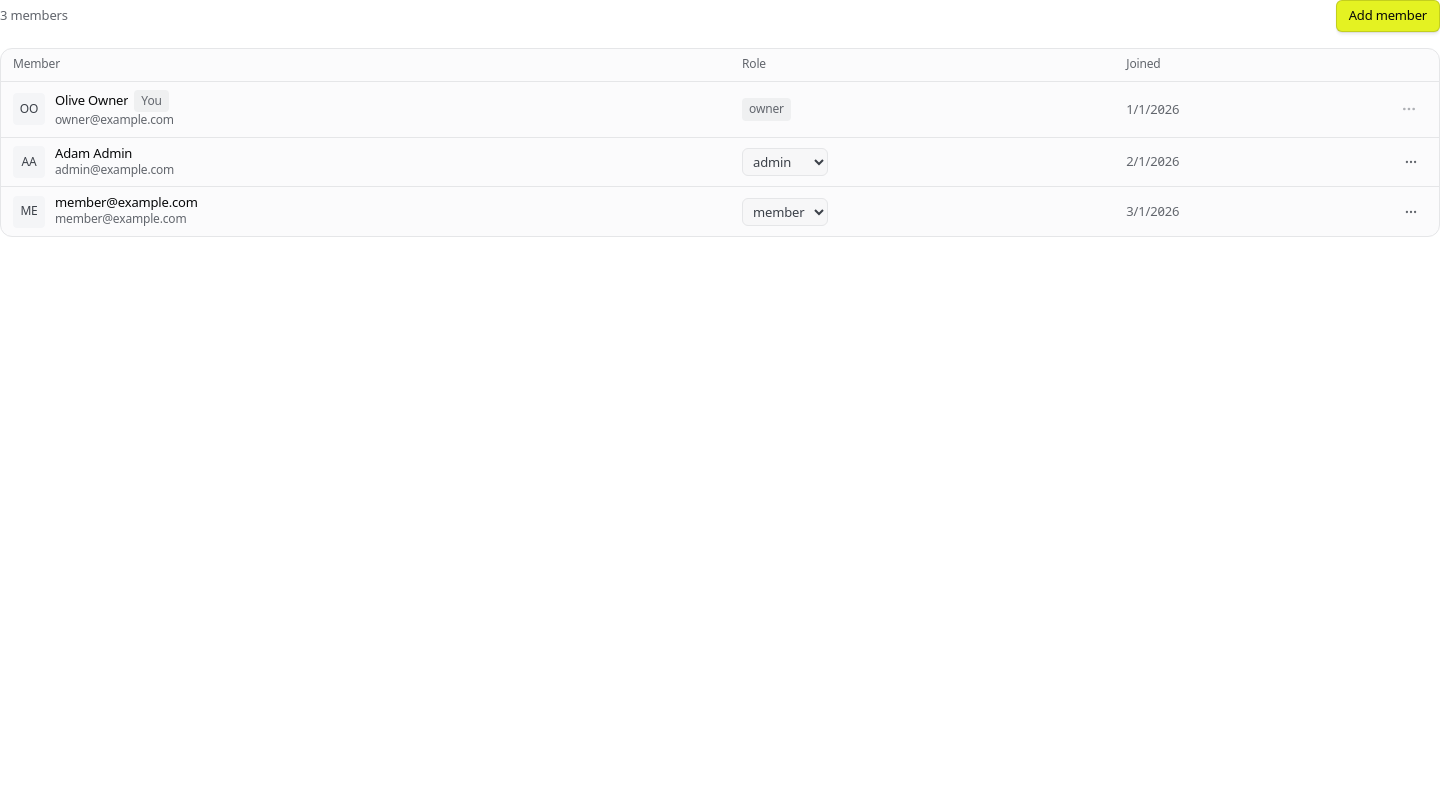
Test: MembersPanel › never offers the owner role to an admin in the add dialog
Check: the text "owner@example.com" is shown, box [55,112,174,129]
Click the button "Add member": x=1388, y=16 [1336,0,1439,32]
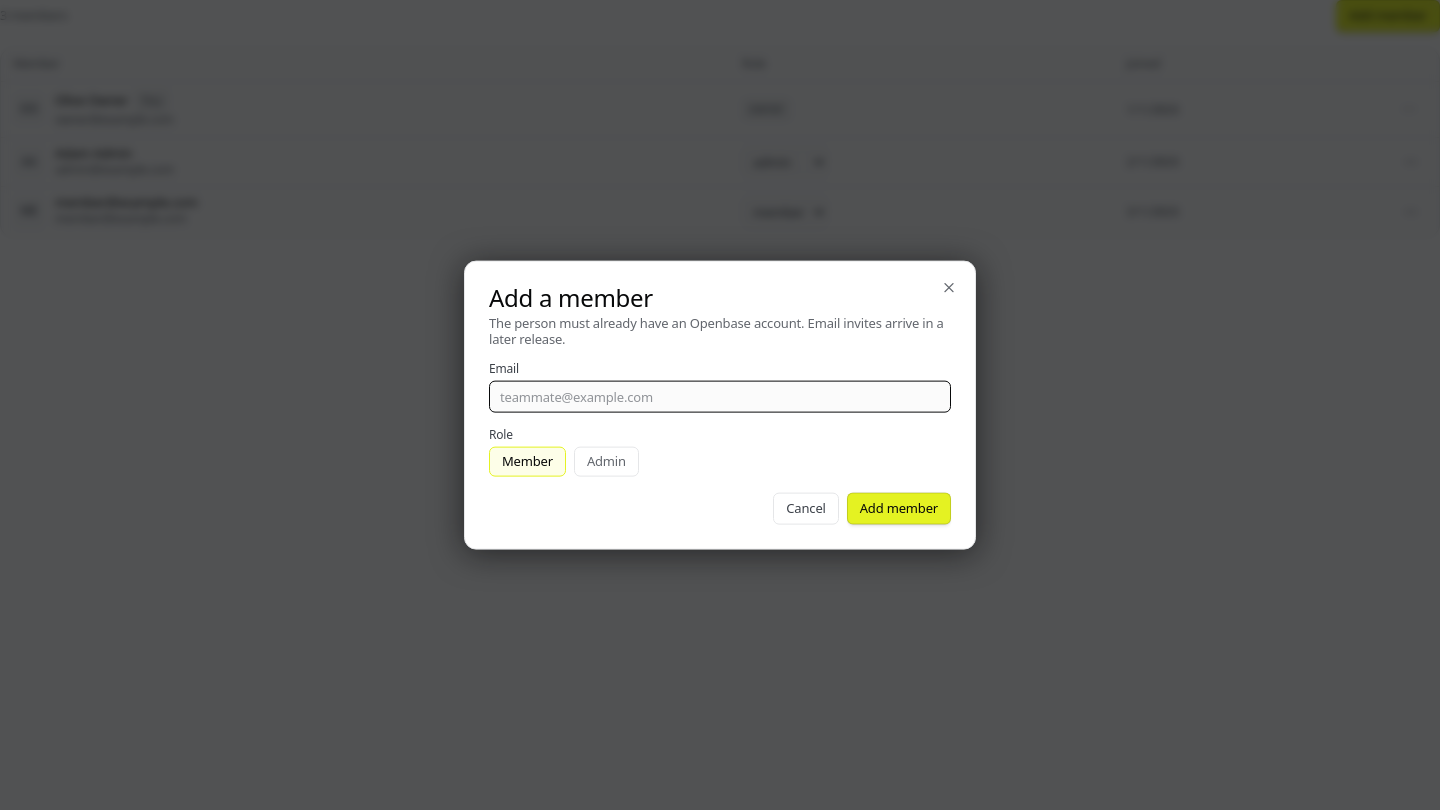
Check: the button "Member" is shown, box [489,447,566,476]
Check: the button "Admin" is shown, box [574,447,639,476]
